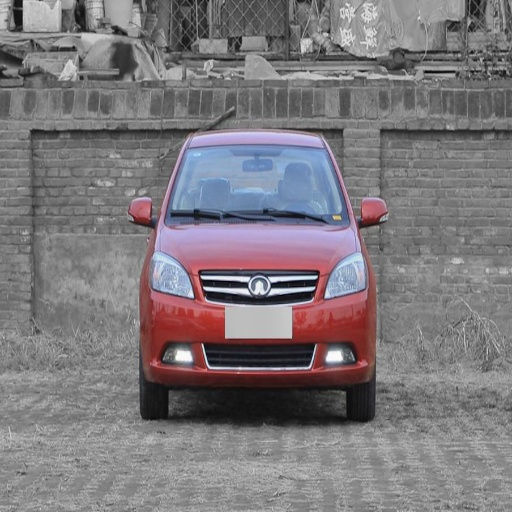front_bumper: (142, 271, 369, 387)
front_left_light: (324, 254, 367, 299)
front_right_light: (148, 254, 197, 299)
hood: (159, 223, 360, 271)
